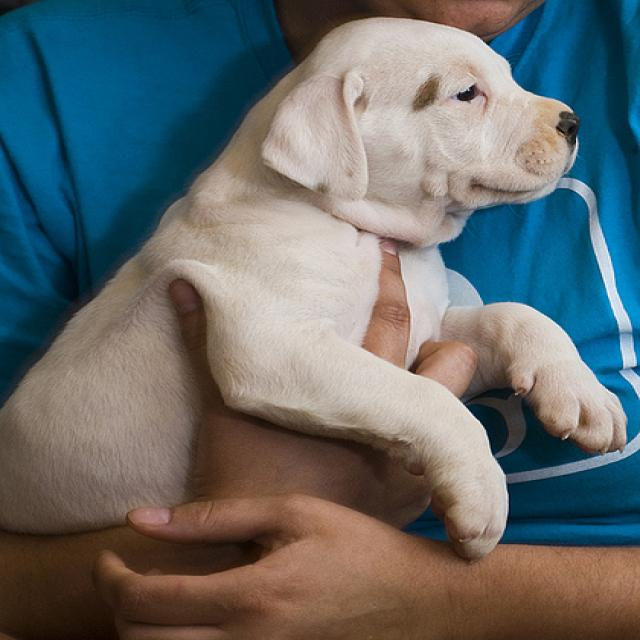dog-american_bulldog: (2, 13, 632, 570)
